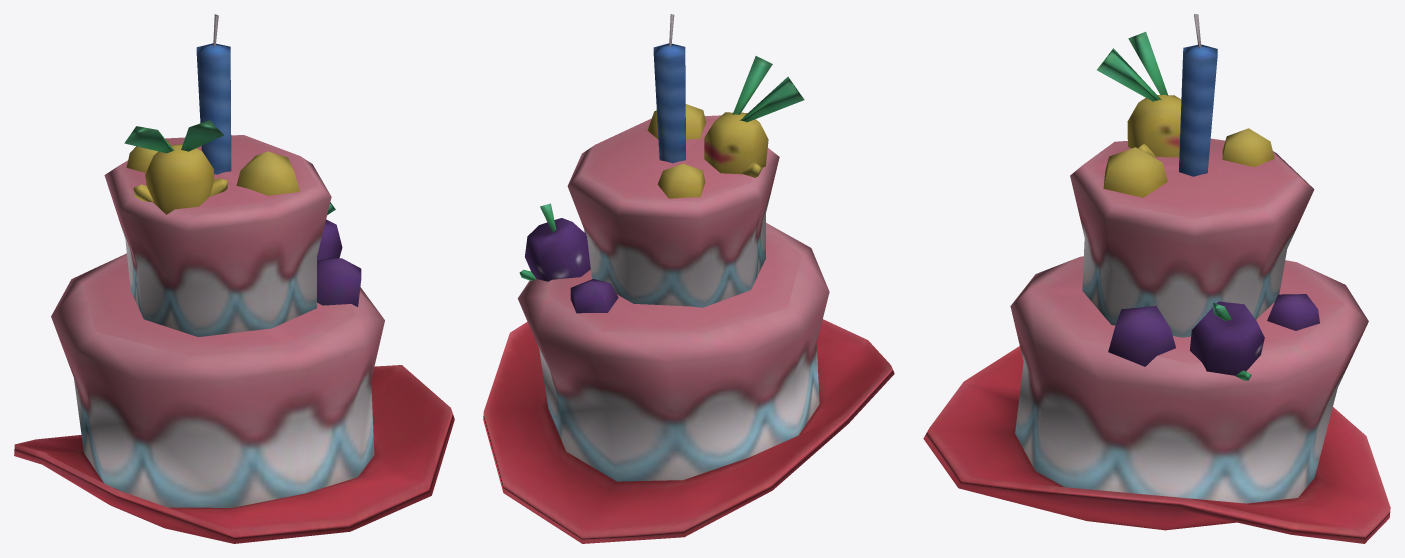
Rendered from cakeHat.glb.
3 views of the same model, side by side, from view 1: azimuth 30°, elevation 25°; view 2: azimuth 150°, elevation 25°; view 3: azimuth 270°, elevation 25° (orthographic). The views are drawn at different scales.
Visible parts, largest first — view 1: cakeHat; view 2: cakeHat; view 3: cakeHat.
Part boxes in pixels (bbox=[...]): cakeHat: bbox=[14, 14, 454, 543]; cakeHat: bbox=[483, 14, 894, 543]; cakeHat: bbox=[923, 14, 1390, 543].
Size of the model in its own units: 0.4115 by 0.5381 by 0.4524.
1 material, 1 textured.
